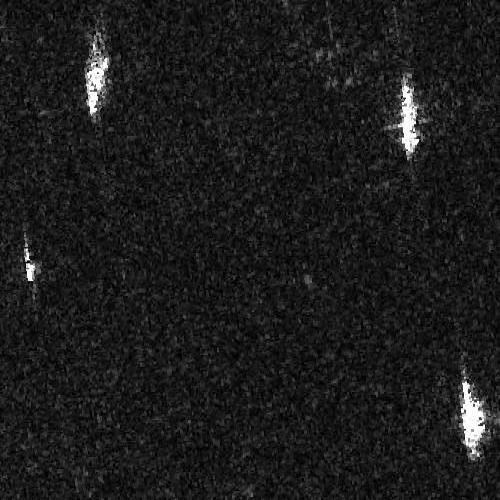ship: (83, 35, 110, 118), (460, 379, 486, 462), (400, 76, 420, 156), (23, 237, 36, 285)
